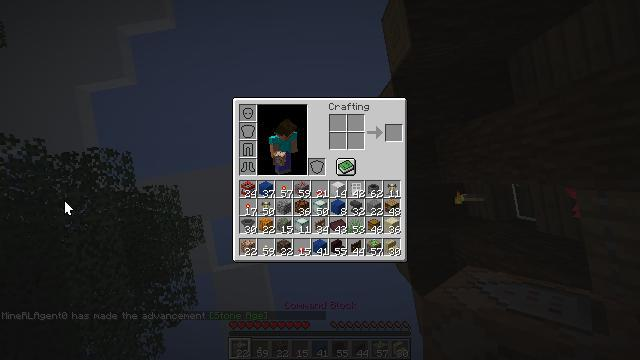cursor: (200, 64, 216, 74)
